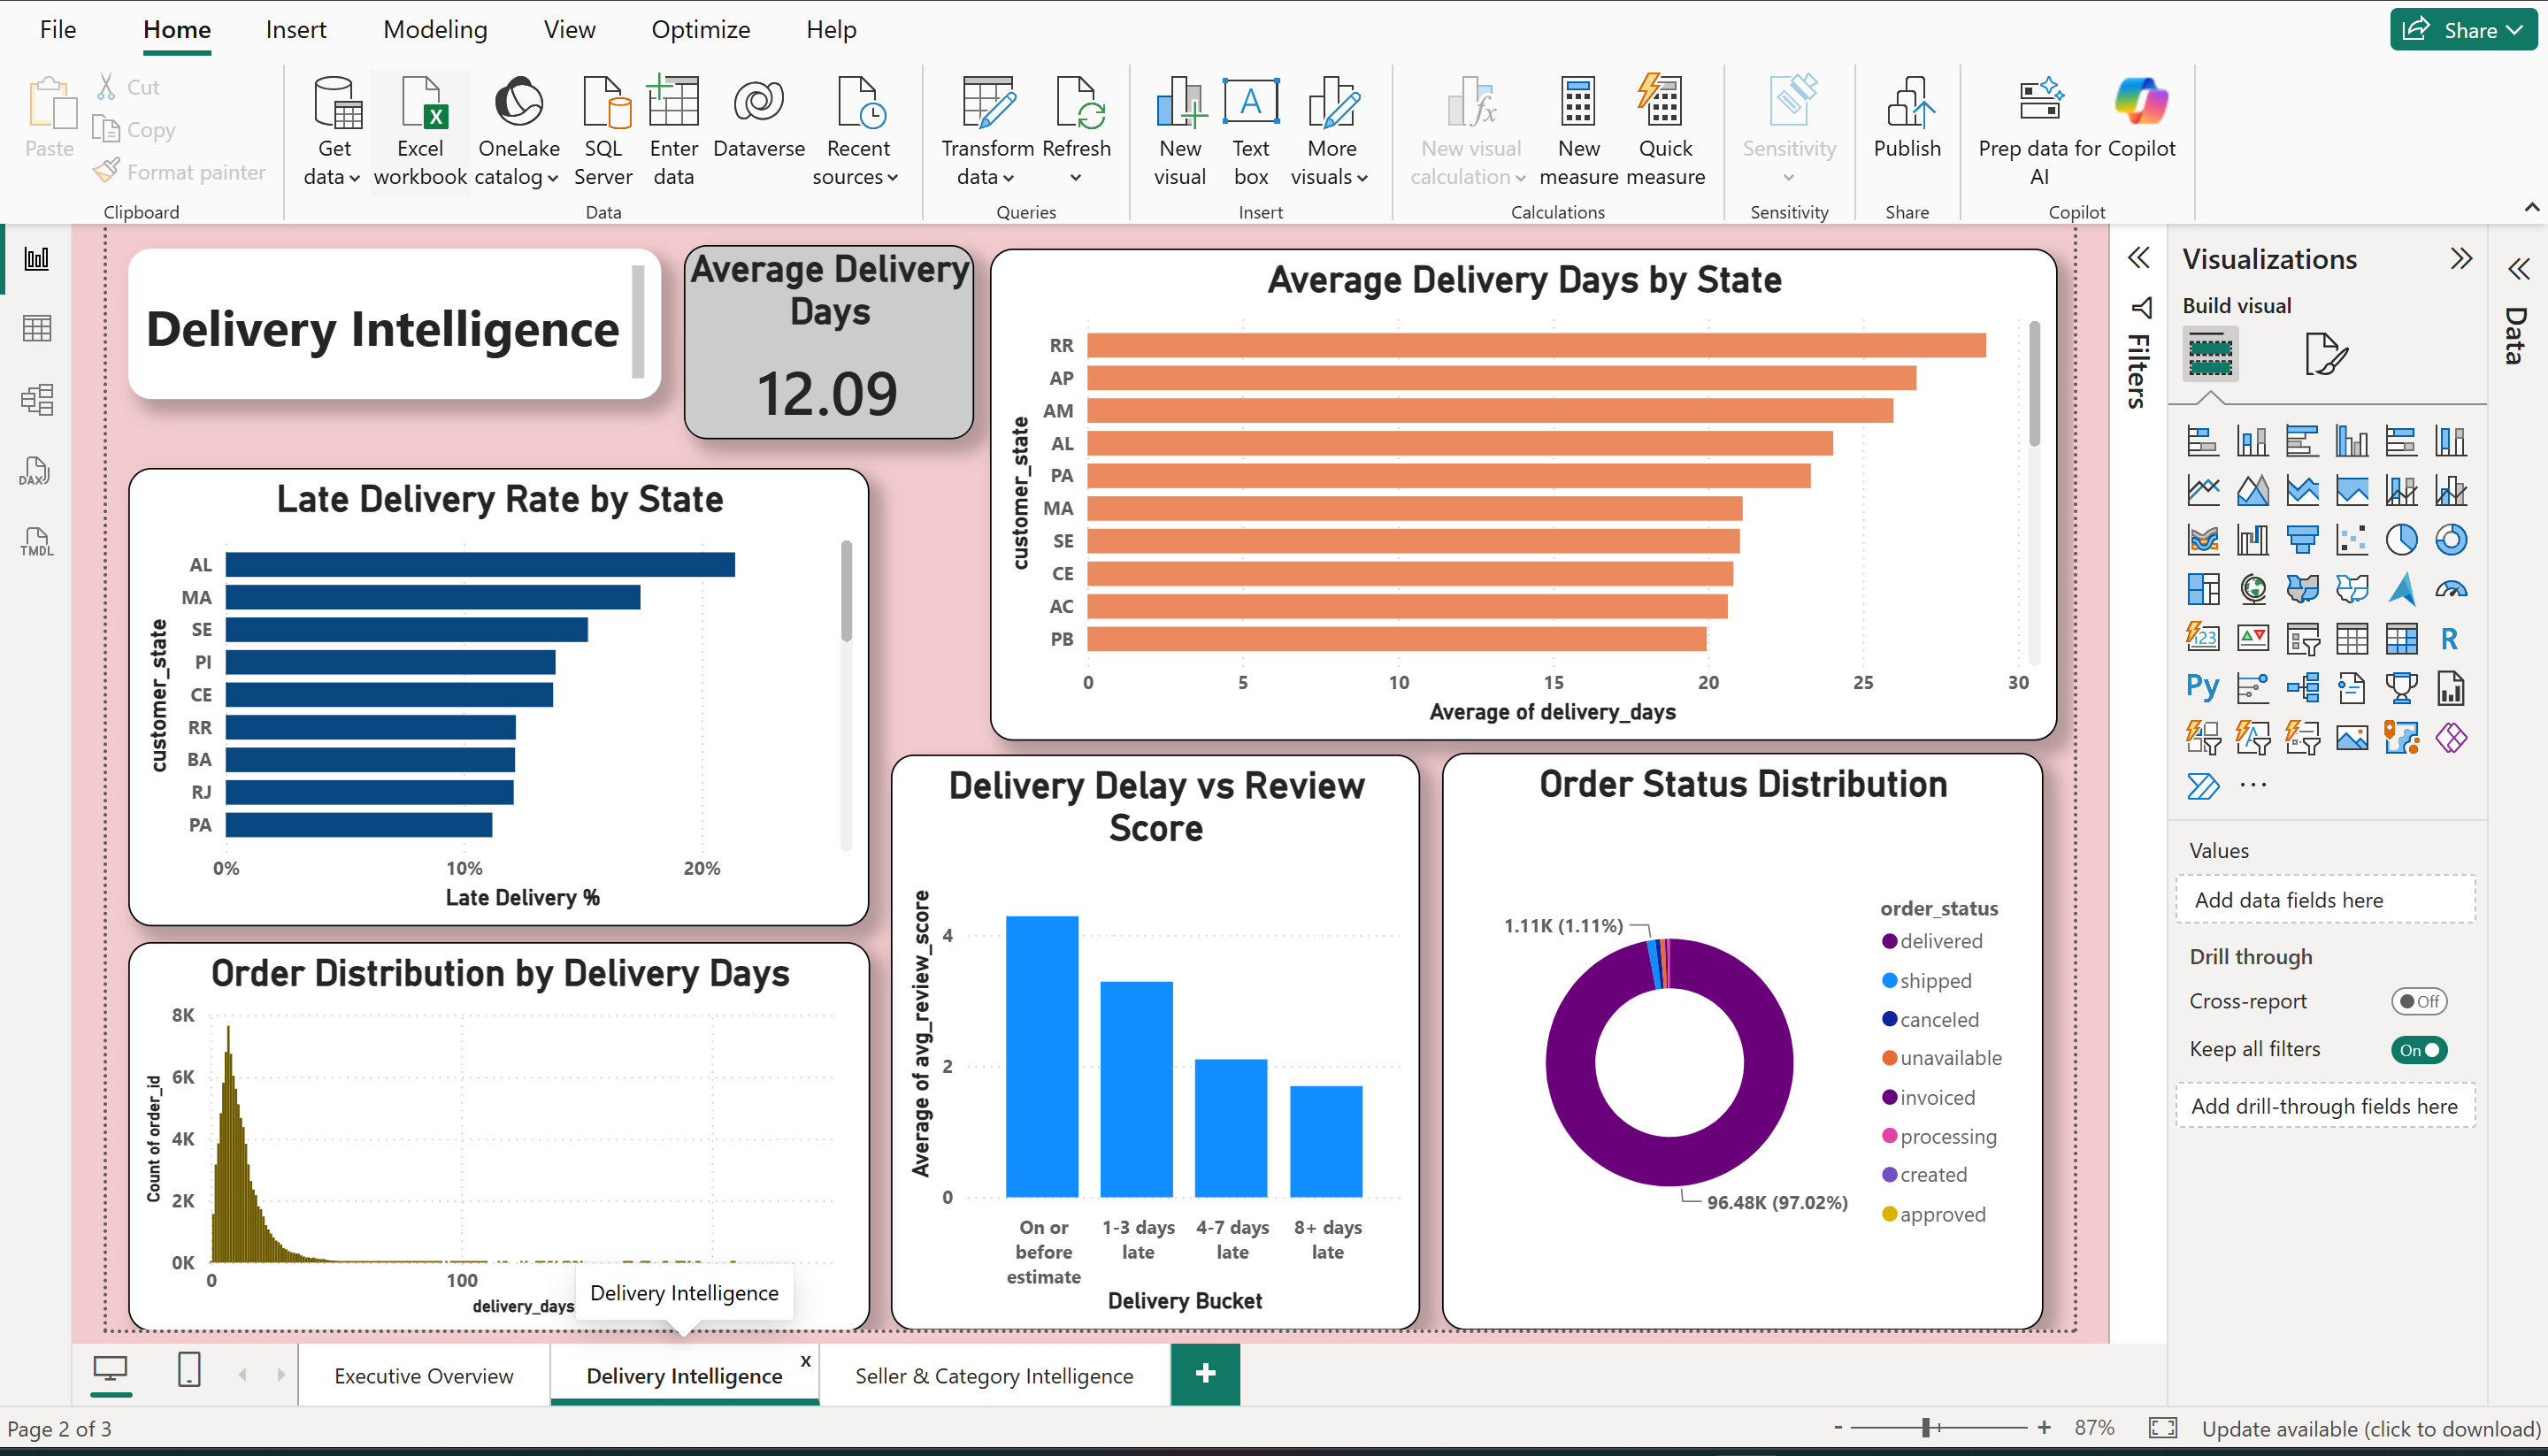

The page's visual inventory and layout, read from the dashboard file:
{"tool":"powerbi","page":{"name":"Delivery Intelligence","canvas":[1280,720],"ordinal":1},"visuals":[{"type":"textbox","box":[13.8,16.1,346.8,97.9],"z":0},{"type":"cardVisual","title":"Average Delivery Days","fields":{"Data":["Avg(orders_master.delivery_days)"]},"box":[375.6,13.8,188.9,126.7],"z":1000},{"type":"clusteredBarChart","title":"Average Delivery Days by State","fields":{"Category":["orders_master.customer_state"],"Y":["Avg(orders_master.delivery_days)"]},"box":[574.8,16.1,694.7,320.3],"z":2000},{"type":"clusteredBarChart","title":"Late Delivery Rate by State","fields":{"Category":["orders_master.customer_state"],"Y":["orders_master.Late Delivery %"]},"box":[13.8,159,482.7,298.4],"z":3000},{"type":"clusteredColumnChart","title":"Delivery Delay vs Review Score","fields":{"Category":["orders_master.Delivery Bucket"],"Y":["Avg(orders_master.avg_review_score)"]},"box":[510,345.5,344.2,374.8],"z":4000},{"type":"clusteredColumnChart","title":"Order Distribution by Delivery Days","fields":{"Category":["orders_master.delivery_days"],"Y":["CountNonNull(orders_master.order_id)"]},"box":[14,467.9,483.2,253.7],"z":5000},{"type":"donutChart","title":"Order Status Distribution","fields":{"Category":["orders_master.order_status"],"Y":["CountNonNull(orders_master.order_id)"]},"box":[868.2,344.2,391.4,376.1],"z":6000}]}

Visuals, with their boxes on the page's 1280x720 design canvas (x1, y1, x2, y2). These are canvas units, not pixel positions in the 2548x1456 screenshot, which may show the page scaled, cropped or inside an application window:
textbox: (14, 16, 361, 114)
"Average Delivery Days" cardVisual: (376, 14, 564, 140)
"Average Delivery Days by State" clusteredBarChart: (575, 16, 1270, 336)
"Late Delivery Rate by State" clusteredBarChart: (14, 159, 496, 457)
"Delivery Delay vs Review Score" clusteredColumnChart: (510, 346, 854, 720)
"Order Distribution by Delivery Days" clusteredColumnChart: (14, 468, 497, 722)
"Order Status Distribution" donutChart: (868, 344, 1260, 720)
